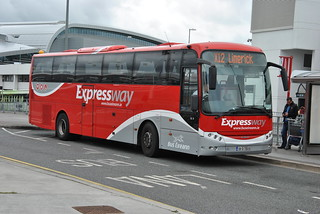bus: (28, 41, 273, 158)
